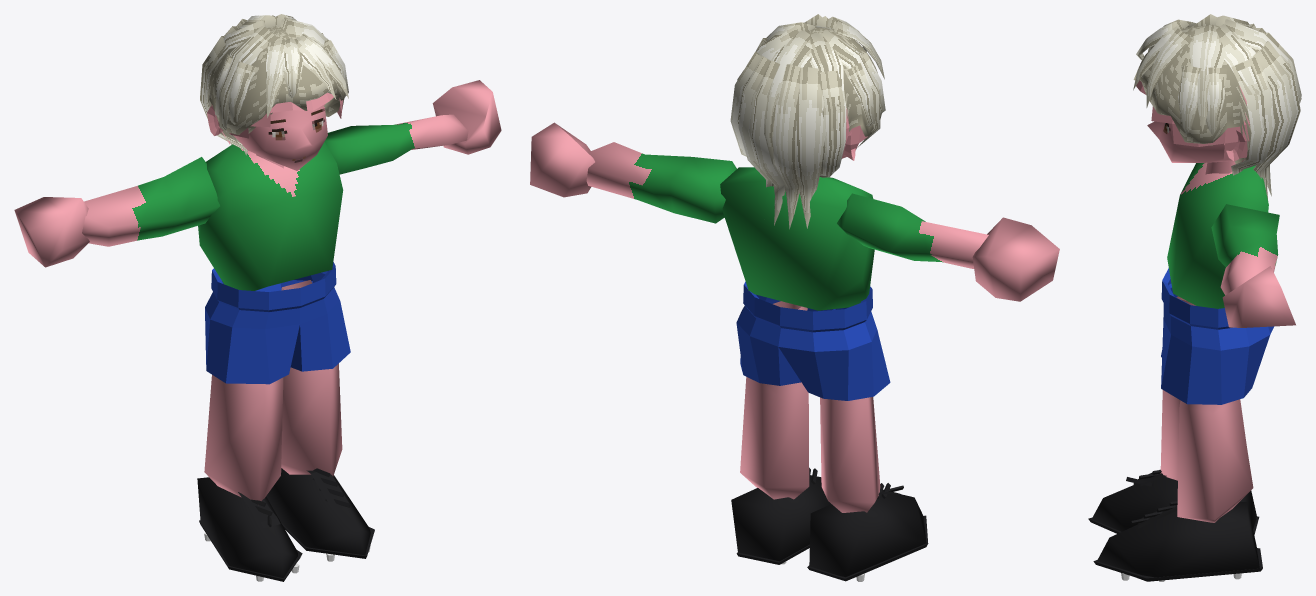
Rendered from 07-mullet_loiro-pintado.glb.
The picture shows the model from 3 angles, left to right: view 1: azimuth 30°, elevation 25°; view 2: azimuth 150°, elevation 25°; view 3: azimuth 270°, elevation 25°; orthographic projection. The views are drawn at different scales.
Visible parts, largest first — view 1: Camisa_Tronco, Bermuda, Cabelo, Perna.R, Braco.R, Perna.L, Chuteira.R, Chuteira.L, Braco.L, Mao.R, Cabeca, Mao.L (+2 smaller); view 2: Cabelo, Camisa_Tronco, Bermuda, Perna.L, Braco.L, Chuteira.R, Perna.R, Braco.R, Mao.R, Chuteira.L, Mao.L, Chuteira_Sola.R; view 3: Cabelo, Bermuda, Chuteira.L, Camisa_Tronco, Perna.L, Braco.L, Mao.L, Chuteira.R, Perna.R, Cabeca, Couro_Cabeludo, Chuteira_Sola.L (+3 smaller).
Part boxes in pixels (x1,y1,x2,y2): Camisa_Tronco: (198, 142, 343, 290); Bermuda: (205, 262, 350, 384); Cabelo: (200, 14, 348, 155); Perna.R: (204, 375, 283, 501); Braco.R: (82, 157, 219, 246); Perna.L: (281, 280, 342, 476); Chuteira.R: (197, 477, 300, 577); Chuteira.L: (266, 468, 370, 555); Braco.L: (324, 114, 468, 174); Mao.R: (14, 197, 89, 267); Cabeca: (233, 104, 327, 170); Mao.L: (432, 80, 501, 154); Cabelo: (730, 14, 885, 229); Camisa_Tronco: (720, 167, 874, 310); Bermuda: (736, 281, 890, 400); Perna.L: (740, 301, 809, 499); Braco.L: (586, 142, 736, 223); Chuteira.R: (809, 490, 926, 577); Perna.R: (820, 397, 880, 512); Braco.R: (837, 193, 988, 268); Mao.R: (972, 217, 1059, 301); Chuteira.L: (731, 475, 830, 561); Mao.L: (530, 122, 594, 197); Chuteira_Sola.R: (807, 515, 928, 581); Cabelo: (1133, 14, 1301, 199); Bermuda: (1161, 268, 1274, 404); Chuteira.L: (1097, 502, 1259, 581); Camisa_Tronco: (1167, 162, 1268, 308); Perna.L: (1177, 399, 1253, 522); Braco.L: (1211, 204, 1279, 295); Mao.L: (1222, 266, 1295, 327); Chuteira.R: (1092, 473, 1256, 531); Perna.R: (1160, 296, 1246, 480); Cabeca: (1147, 121, 1233, 162); Couro_Cabeludo: (1136, 80, 1249, 161); Chuteira_Sola.L: (1093, 548, 1262, 581).
Size of the model in its own units: 0.4523 by 0.4598 by 0.166.
3 materials, 3 textured.
